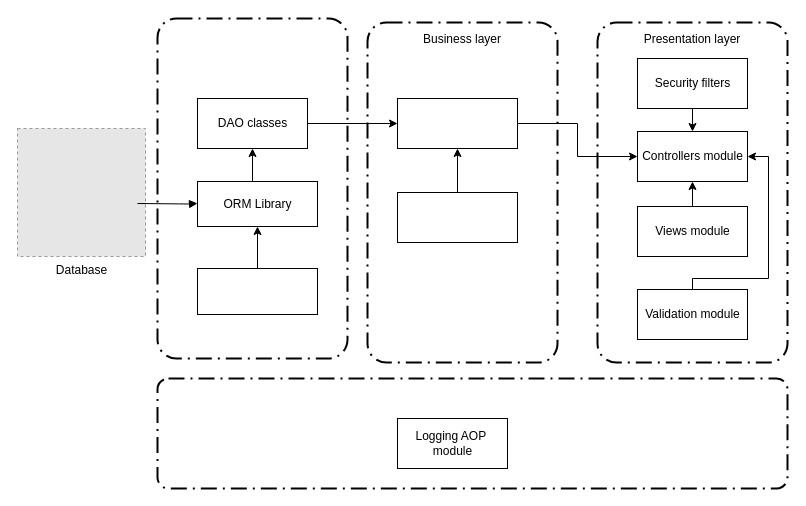
Some shapes in this 806 by 506 pixel diagram are drawn without their labels. Grey dashed boxes stand in for pictures. Here are the shapes that lost their labels. From the top down, the box of each, then its label:
(396, 98, 518, 148): Service module
(156, 17, 348, 359): Persistence layer
(396, 192, 518, 242): DTO to Bean mapping module
(196, 268, 318, 314): DTOs
(156, 377, 788, 489): Shared layer
